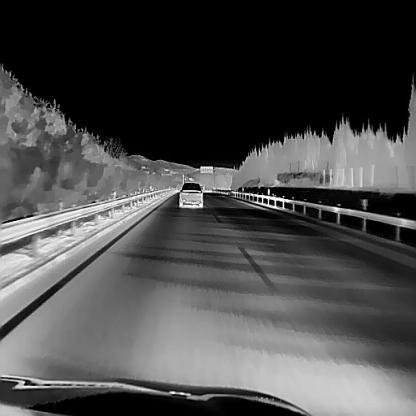car: (178, 180, 202, 208)
